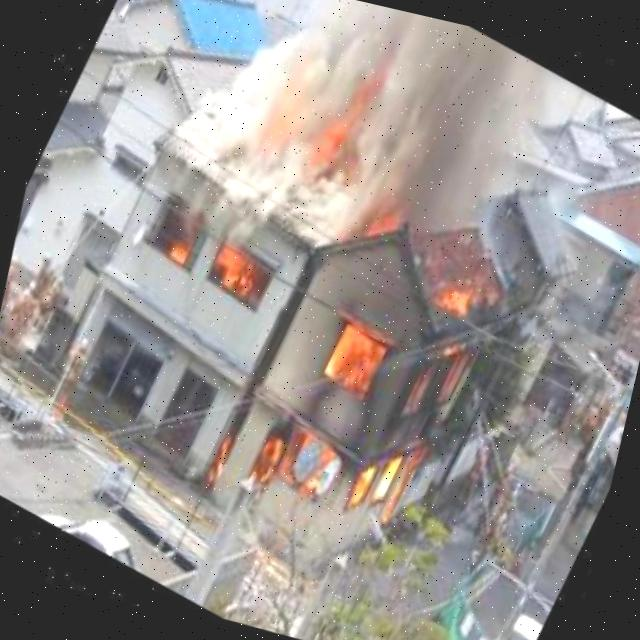fire: (216, 187, 535, 589), (243, 51, 400, 202), (131, 200, 278, 316)
